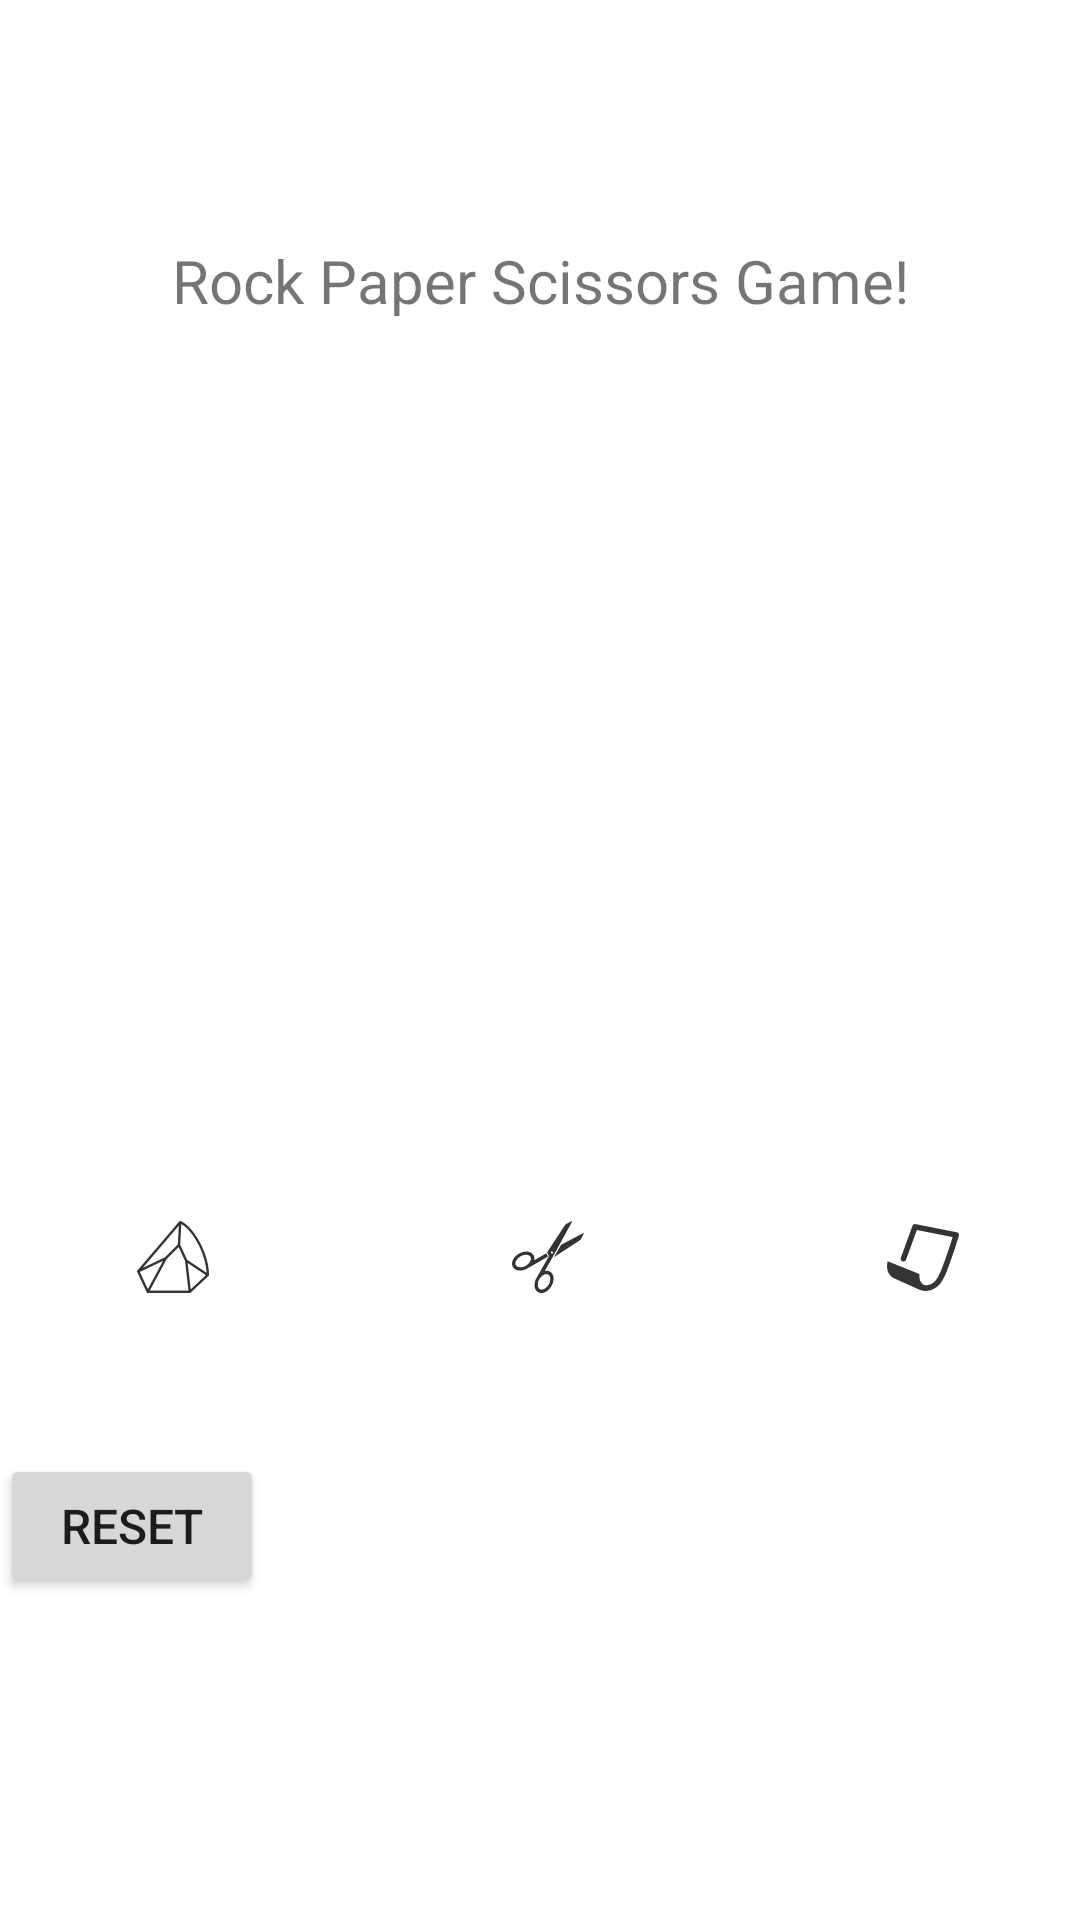

Icon click points for this 1080×1920 phone screenshot, format point (x, y):
rock: point (173, 1257)
scissors: point (548, 1257)
